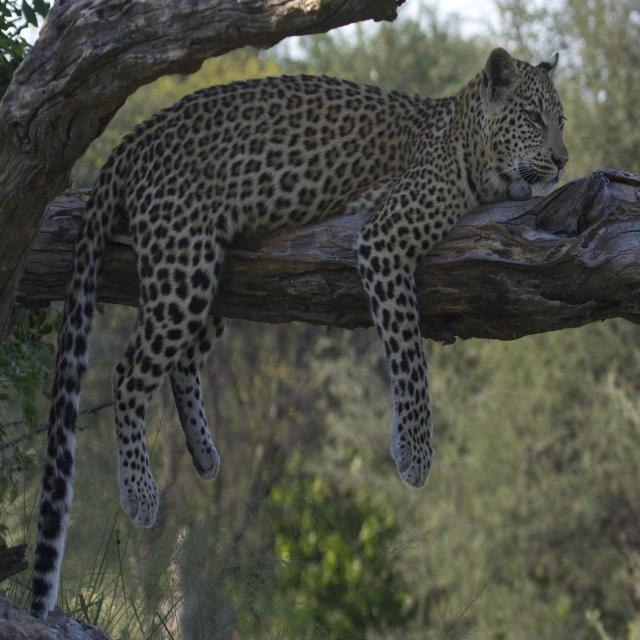Leopard: (16, 61, 587, 617)
